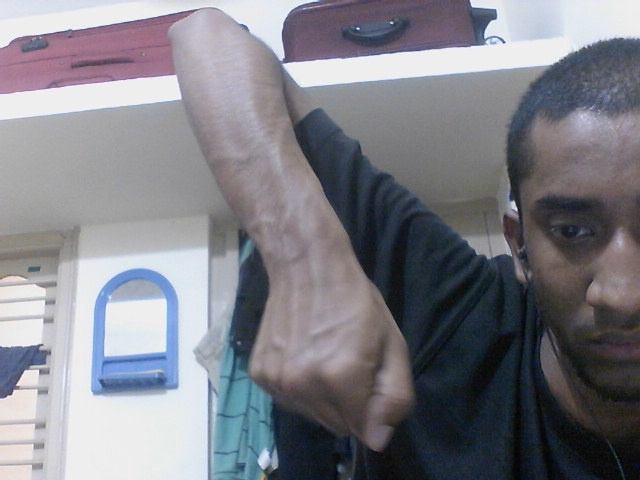hand: (245, 256, 418, 451)
